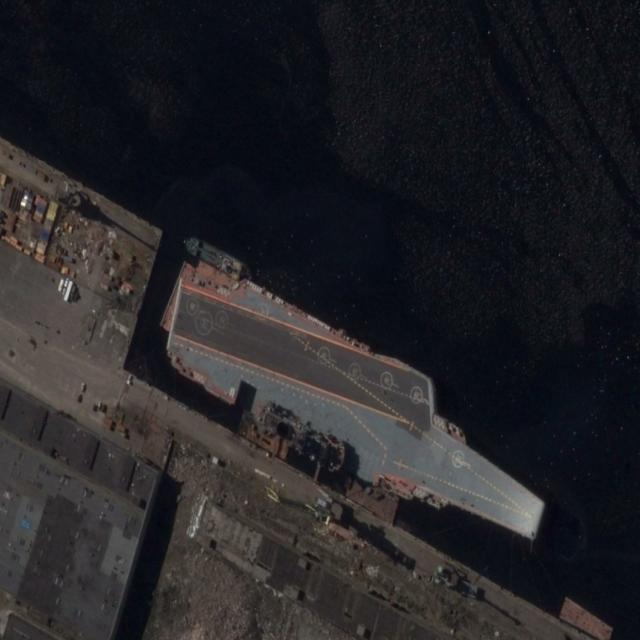Aircraft Carrier: (155, 251, 561, 563)
